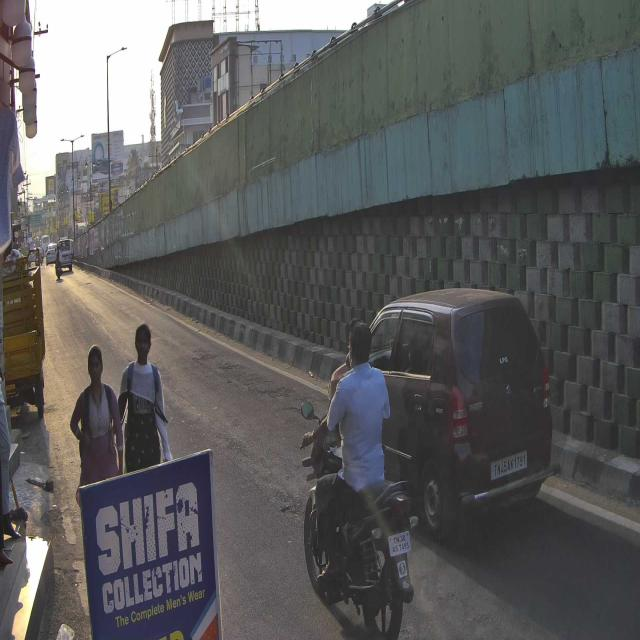single_rider: (301, 320, 414, 640)
